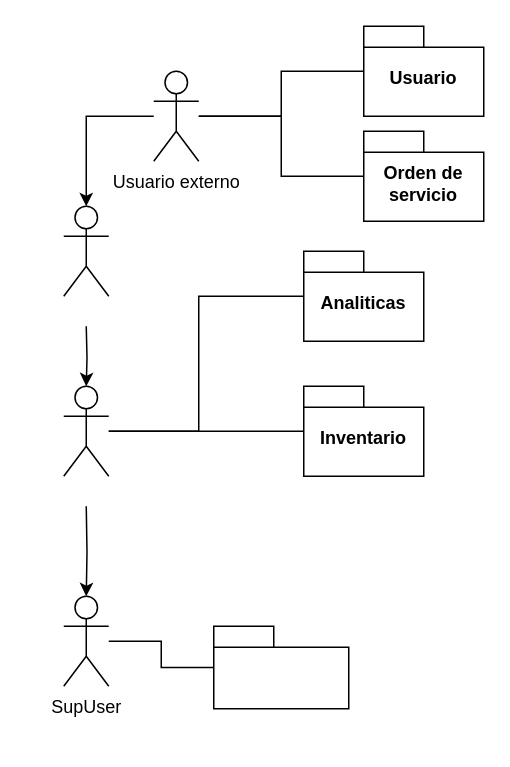
Image size: 510x767. Some labels were removed from this diagram. Here are the shapes that lost their labels. From the top down, the centre of each, then its label:
At point 85,250: "Usuario interno".
At point 85,430: "Administrativo".
At point 280,667: "Notificaciones".
